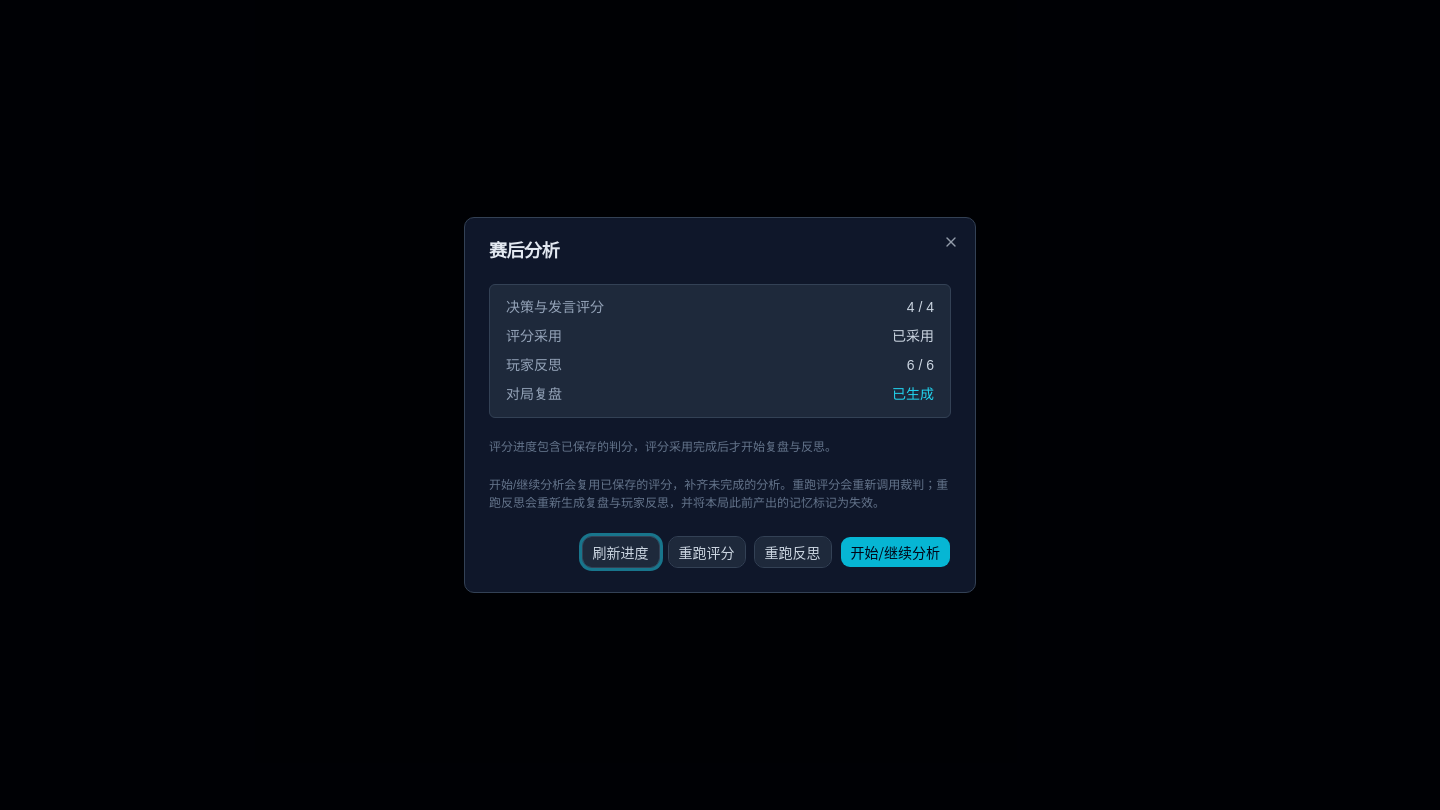
Test: AnalysisDialog › 后端跳过投递时不谎报「已投递」
Expected: the text "4 / 4" is shown, x1=907 y1=297 x2=934 y2=318
Click the button "开始/继续分析". click: (895, 552)
box: x1=840 y1=536 x2=951 y2=568
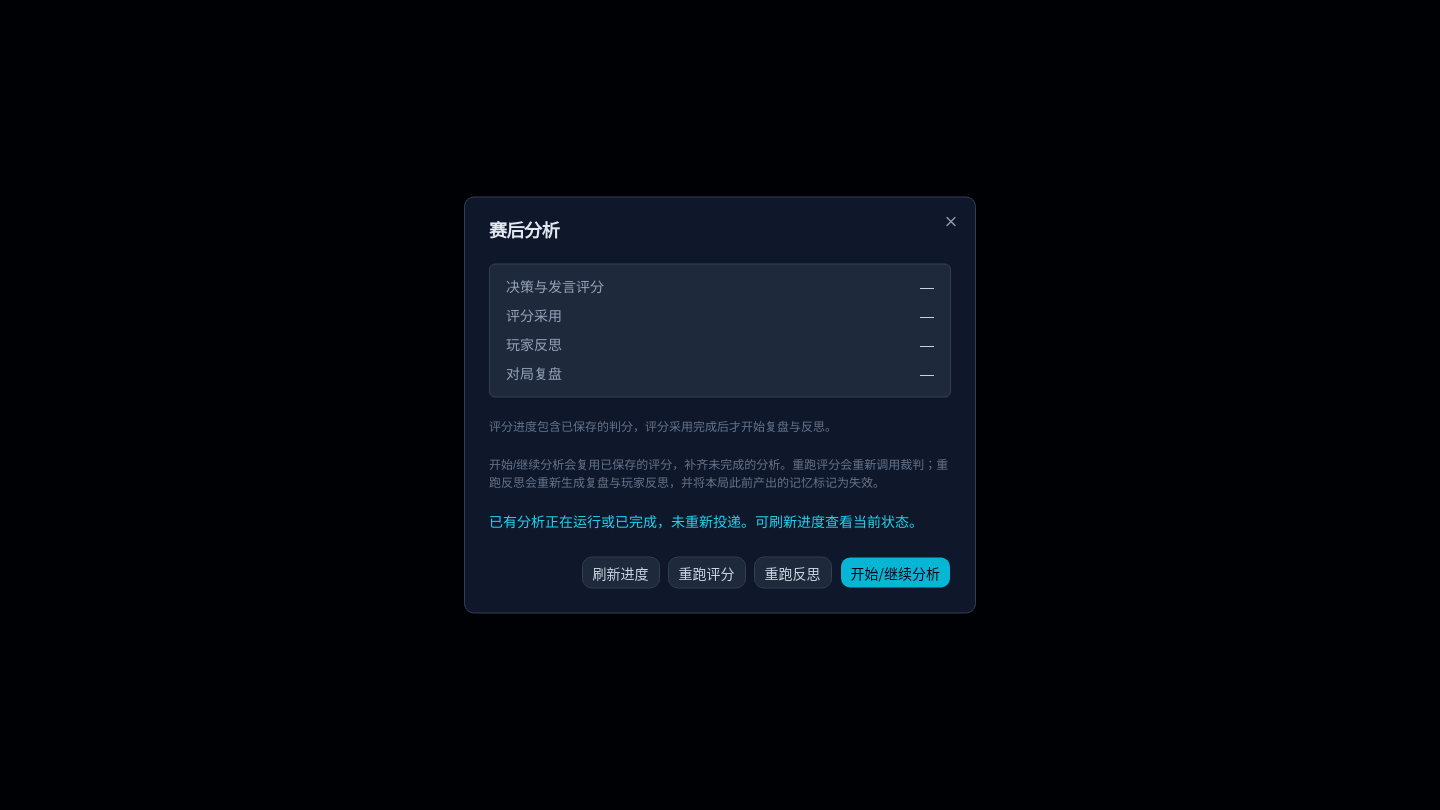
Expected: the text "已有分析正在运行或已完成，未重新投递。可刷新进度查看当前状态。" is shown, x1=489 y1=512 x2=951 y2=532
